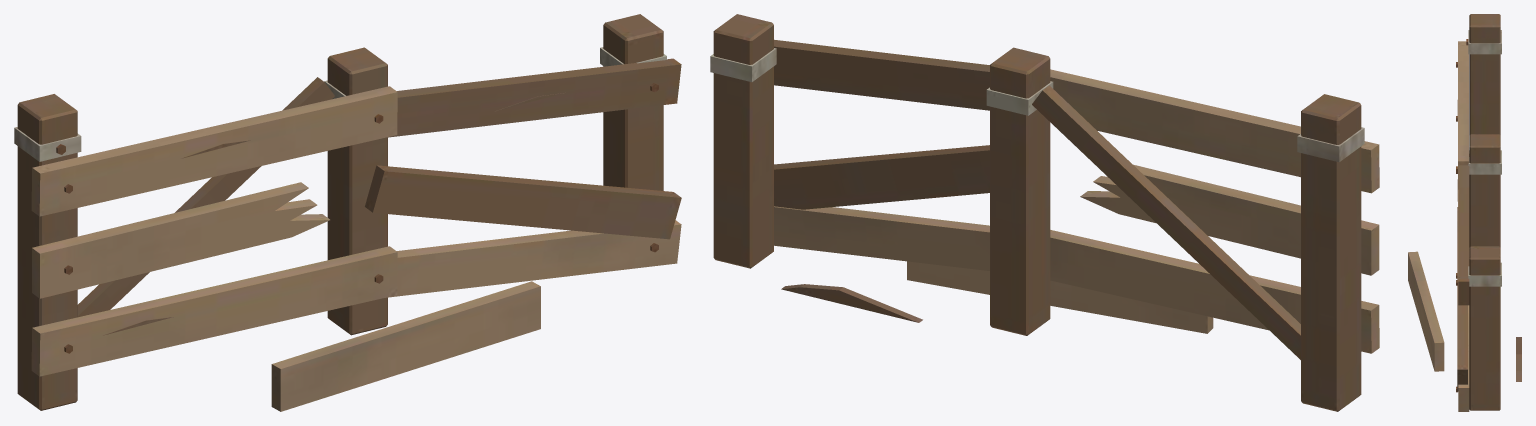
Rendered from BR15_broken_wooden_fence_v2.glb.
3 renders of one model, left to right at view 1: azimuth 30°, elevation 25°; view 2: azimuth 150°, elevation 25°; view 3: azimuth 270°, elevation 25°, orthographic. The views are drawn at different scales.
Visible parts, largest first — view 1: Rough squared upright; view 2: Rough squared upright; view 3: Rough squared upright.
Boxes of the visible parts, x1,y1,x2,y2 form: Rough squared upright: [14, 14, 681, 411]; Rough squared upright: [710, 14, 1379, 411]; Rough squared upright: [1408, 14, 1521, 411].
Bounding box in the file's own units: 3 × 1.37 × 0.6915.
Materials: 4 (4 with a texture image).
